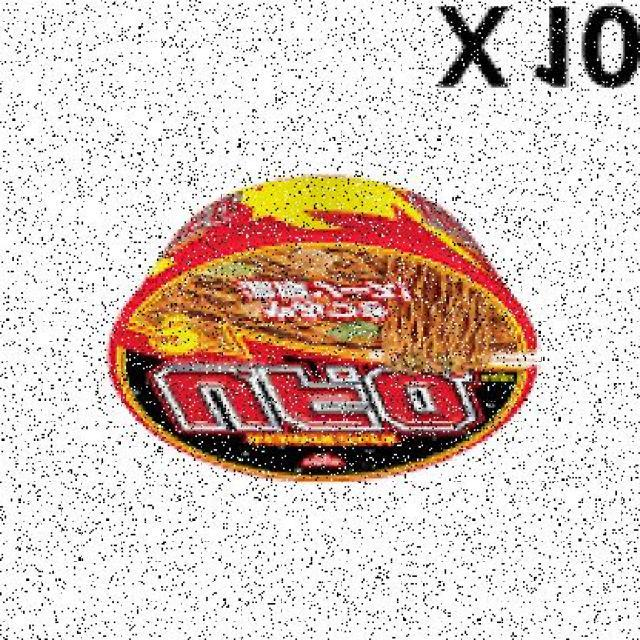Miscellaneous: (113, 174, 552, 486)
